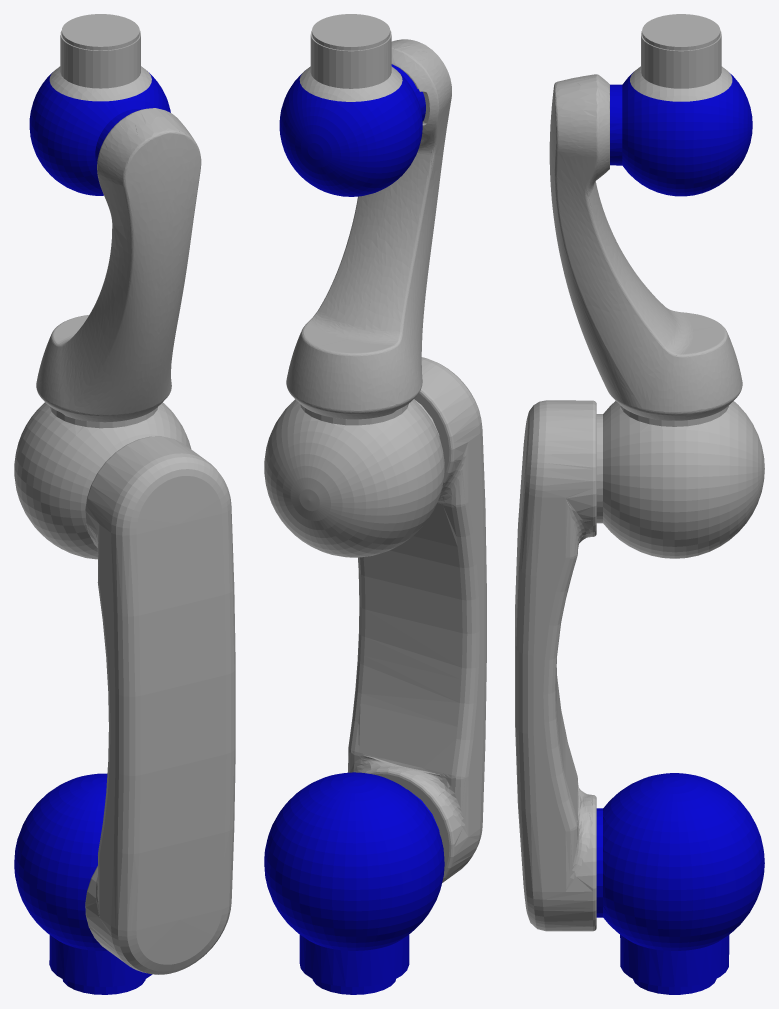
Rendered from lwa4p_arm.dae.
3 renders of one model, left to right at view 1: azimuth 30°, elevation 25°; view 2: azimuth 150°, elevation 25°; view 3: azimuth 270°, elevation 25°, orthographic.
Visible parts, largest first — view 1: lwa4p_link2, lwa4p_link4, lwa4p_link1, lwa4p_link3, lwa4p_link5, lwa4p_link6; view 2: lwa4p_link2, lwa4p_link1, lwa4p_link4, lwa4p_link3, lwa4p_link5, lwa4p_link6; view 3: lwa4p_link2, lwa4p_link1, lwa4p_link4, lwa4p_link3, lwa4p_link5, lwa4p_link6.
Boxes of the visible parts, box(x1,y1,x2,y2) form: lwa4p_link2: box(85, 436, 235, 974); lwa4p_link4: box(36, 108, 201, 422); lwa4p_link1: box(14, 773, 152, 994); lwa4p_link3: box(14, 402, 191, 559); lwa4p_link5: box(29, 72, 170, 195); lwa4p_link6: box(49, 14, 151, 101); lwa4p_link2: box(348, 357, 486, 882); lwa4p_link1: box(264, 772, 444, 994); lwa4p_link4: box(286, 39, 451, 419); lwa4p_link3: box(264, 399, 444, 557); lwa4p_link5: box(279, 64, 425, 196); lwa4p_link6: box(299, 14, 402, 101); lwa4p_link2: box(515, 400, 596, 931); lwa4p_link1: box(596, 773, 764, 994); lwa4p_link4: box(549, 74, 742, 420); lwa4p_link3: box(596, 401, 764, 558); lwa4p_link5: box(610, 72, 752, 196); lwa4p_link6: box(630, 14, 732, 101).
Bounding box in the file's own units: 0.1447 × 0.2009 × 0.8403.
